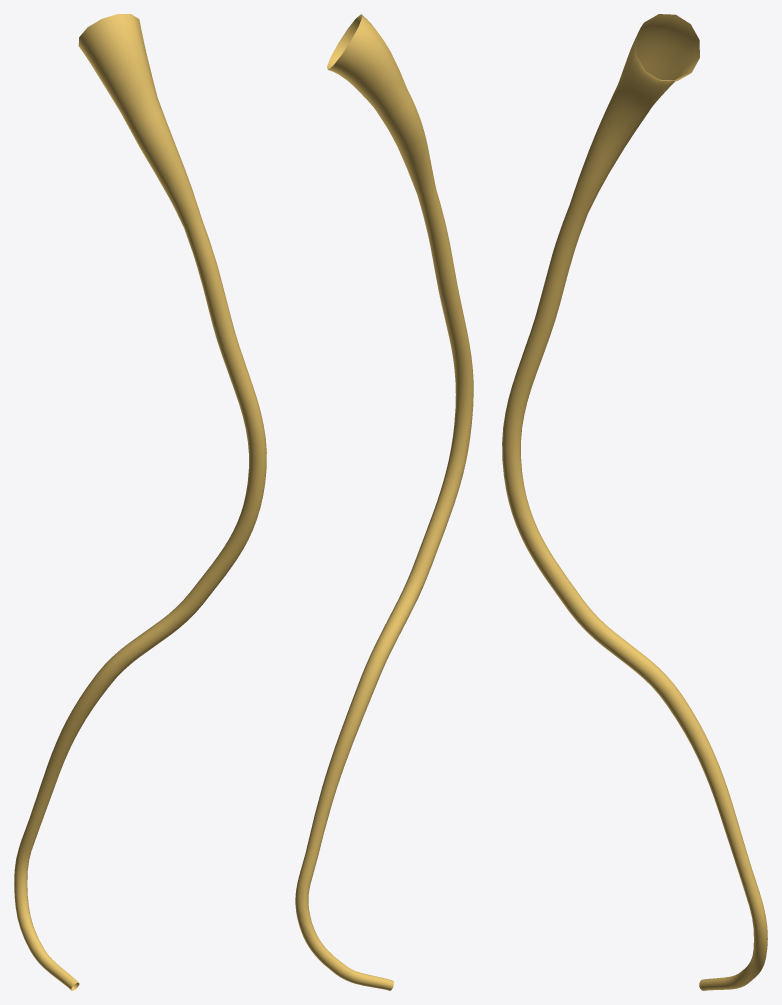
File: visceras-ureter-l.glb
3 views of the same model, side by side, from view 1: azimuth 90°, elevation 25°; view 2: azimuth 150°, elevation 25°; view 3: azimuth 270°, elevation 25° (orthographic). The views are drawn at different scales.
Parts seen in each view (by area): view 1: Ureter.l; view 2: Ureter.l; view 3: Ureter.l.
Part boxes in pixels (bbox=[...]): Ureter.l: bbox=[14, 14, 266, 990]; Ureter.l: bbox=[295, 14, 473, 990]; Ureter.l: bbox=[502, 14, 767, 990].
Bounding box in the file's own units: 0.0223 × 0.2374 × 0.0571.
